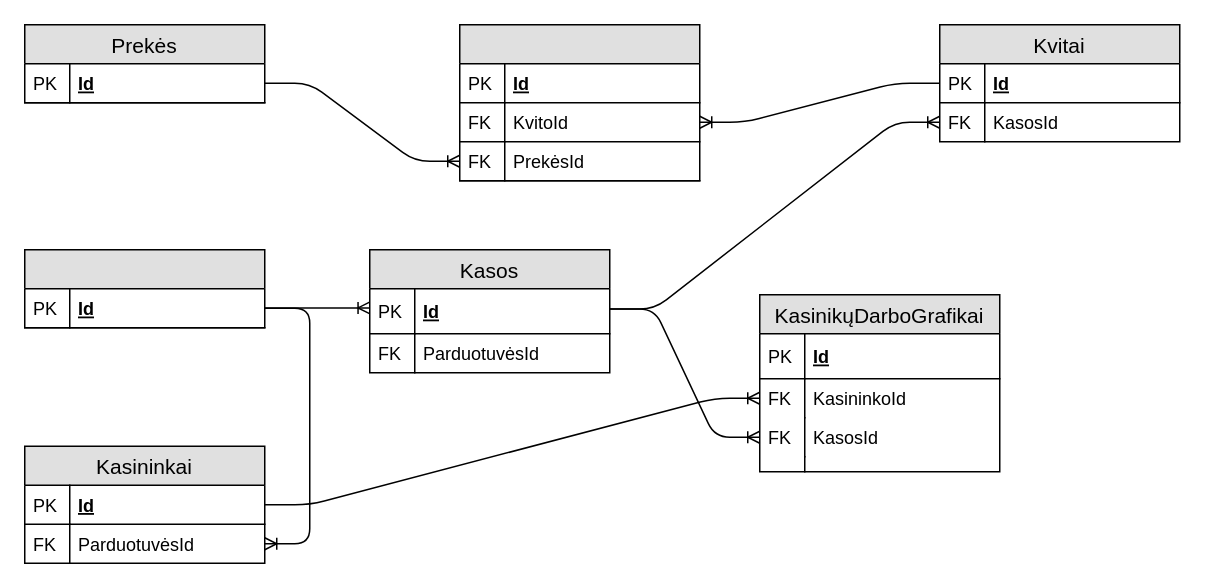
Image size: 1205x588. Some labels were removed from this diagram. The box of each missing label's shape, as (x1, y1, x2, y2) in pixels:
KvitoPrekės: (458, 23, 700, 181)
Parduotuvės: (23, 248, 265, 328)
